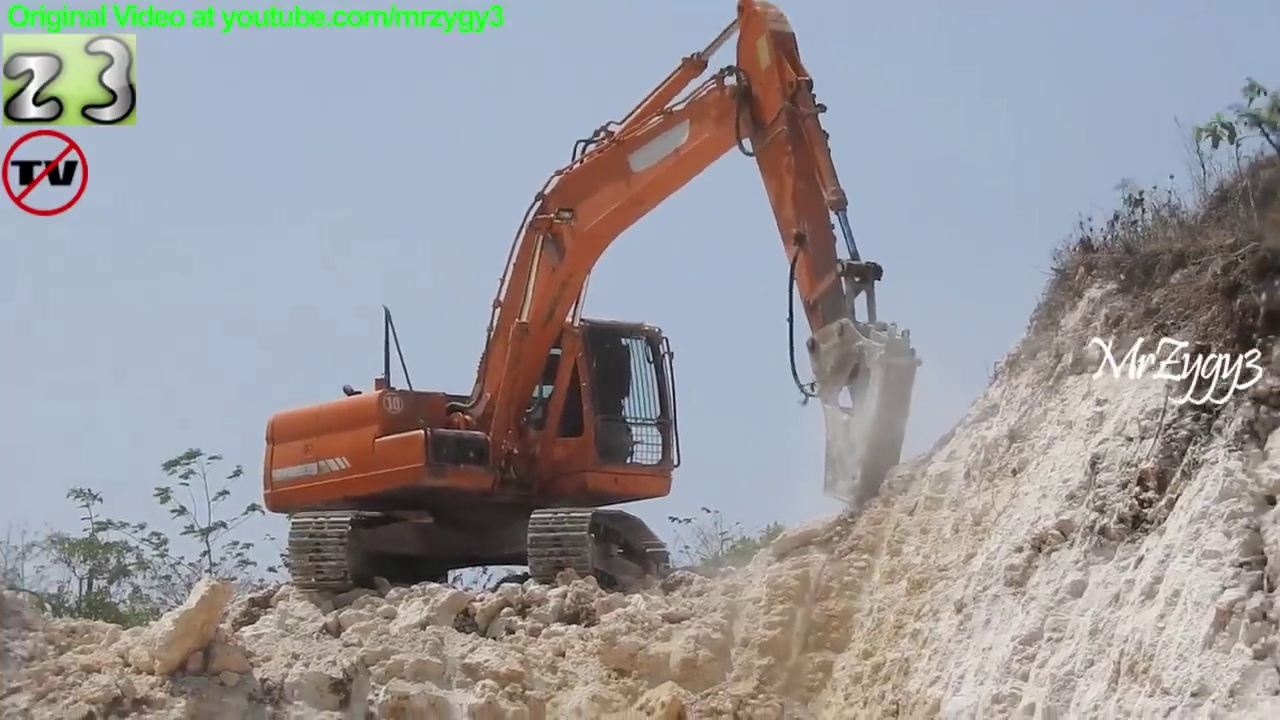excavator breaker: (254, 1, 929, 609)
